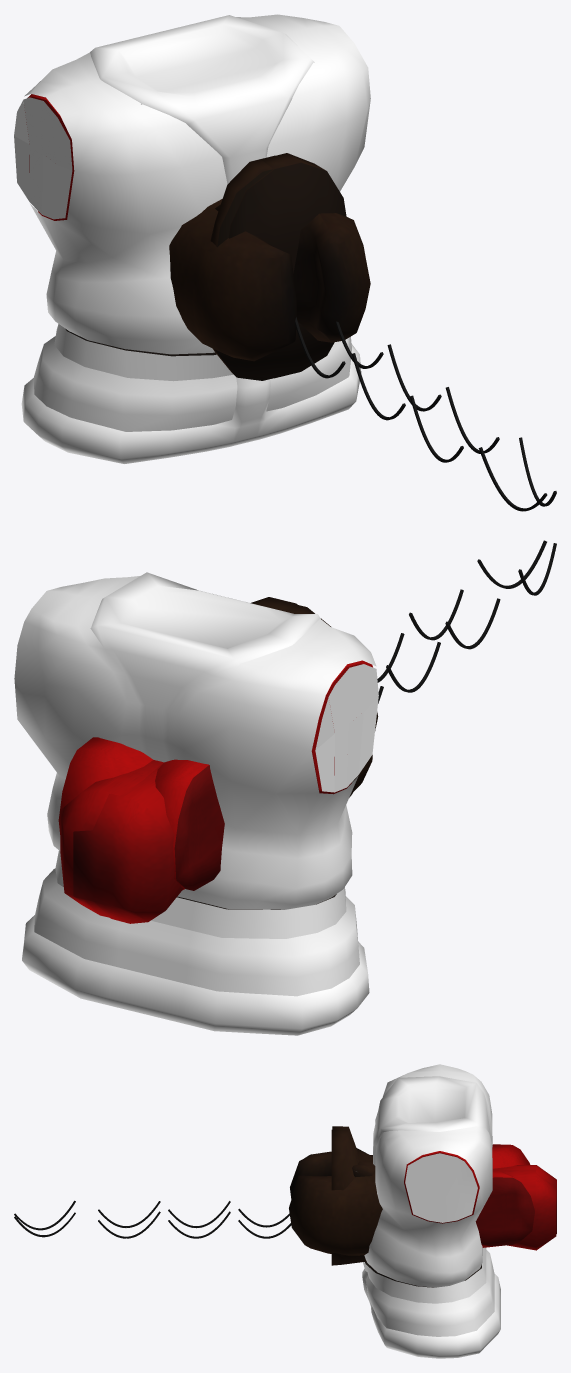
The model's file is santa.gltf.
3 renders of one model, top to bottom at view 1: azimuth 30°, elevation 25°; view 2: azimuth 150°, elevation 25°; view 3: azimuth 270°, elevation 25°, orthographic. The views are drawn at different scales.
Parts seen in each view (by area): view 1: roblox, Right Arm, Left Leg, Left Arm, Right Leg, Torso; view 2: roblox, Right Leg, Left Arm, Left Leg, Right Arm, Torso; view 3: roblox, Left Arm, Right Arm, Left Leg, Torso, Right Leg.
Boxes of the visible parts, x1,y1,x2,y2 form: roblox: (14, 14, 370, 463); Right Arm: (169, 199, 296, 361); Left Leg: (229, 153, 346, 378); Left Arm: (215, 204, 370, 342); Right Leg: (210, 155, 274, 380); Torso: (25, 94, 216, 356); roblox: (14, 572, 378, 1035); Right Leg: (73, 604, 352, 923); Left Arm: (155, 759, 224, 890); Left Leg: (60, 597, 297, 917); Right Arm: (58, 712, 378, 834); Torso: (177, 660, 372, 909); roblox: (362, 1064, 500, 1358); Left Arm: (289, 1144, 530, 1255); Right Arm: (290, 1151, 534, 1246); Left Leg: (331, 1129, 556, 1265); Torso: (365, 1151, 481, 1287); Right Leg: (332, 1126, 556, 1233).
Bounding box in the file's own units: 2.14 × 2.3 × 5.33.
7 materials, 1 textured.
